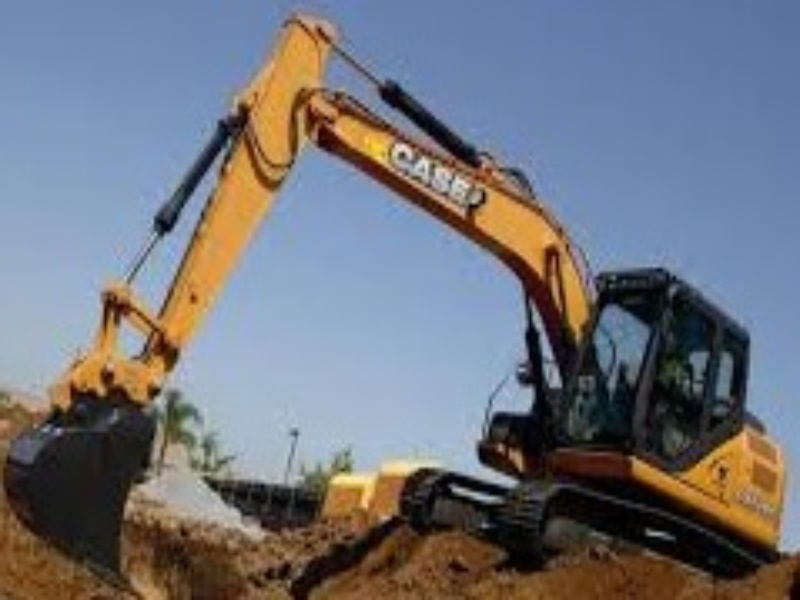wajueji: (31, 15, 789, 574)
